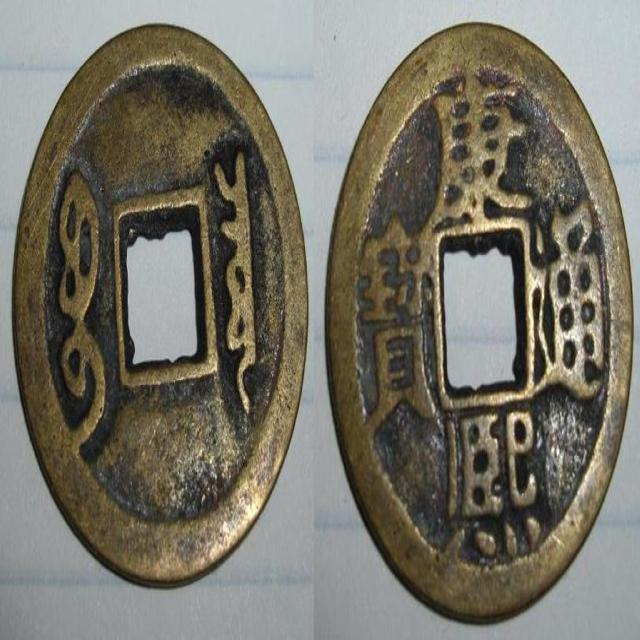Coin: (326, 22, 638, 621), (13, 14, 313, 584)
